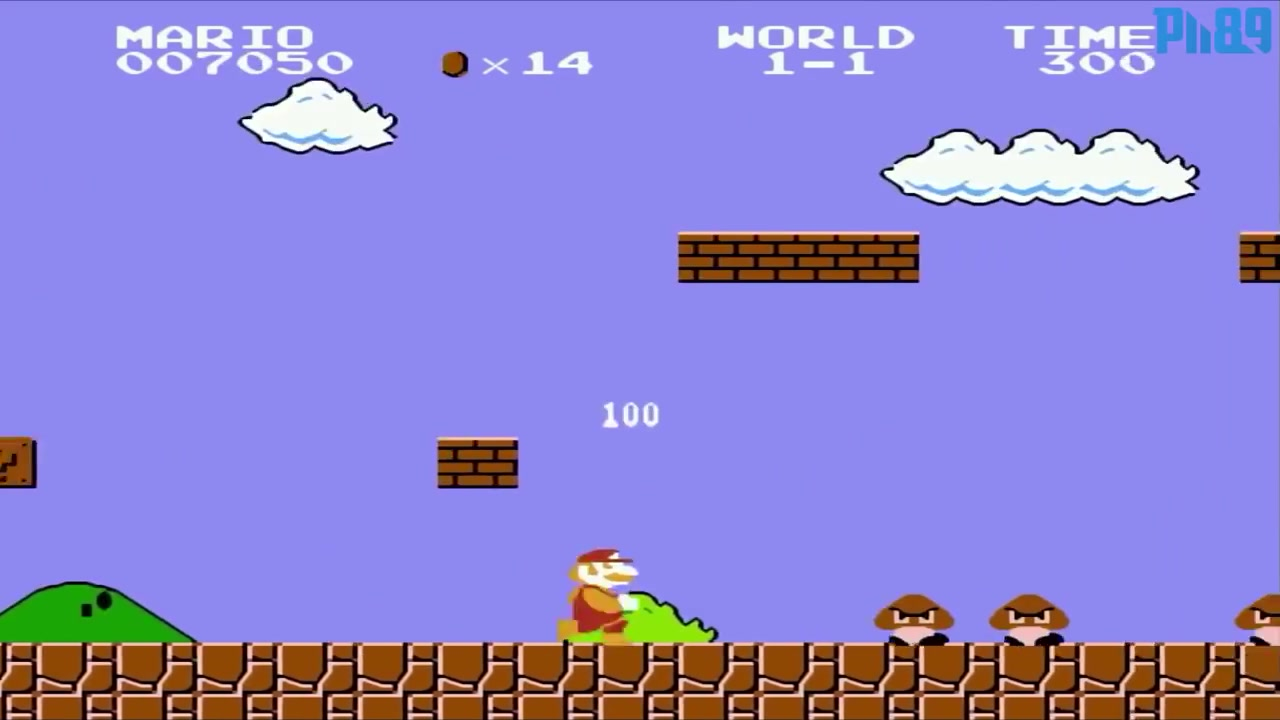mario: (547, 536, 645, 645)
